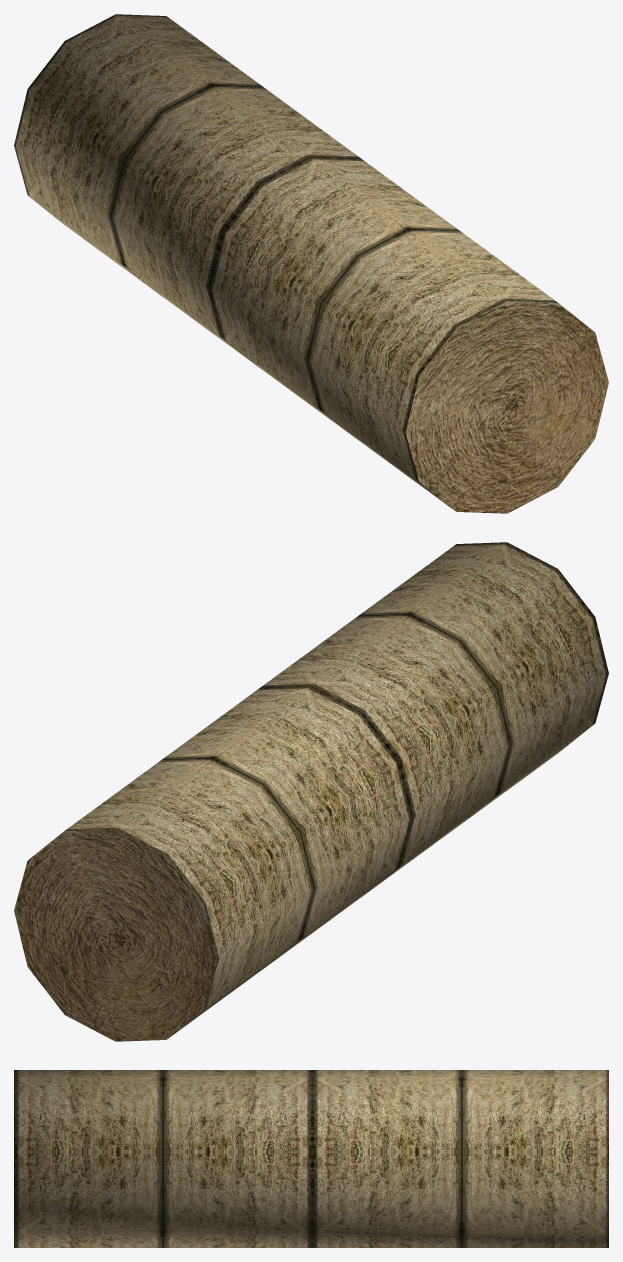
Rendered from hay-bale-straw-1x4-cbj_LOD01.gltf.
The picture shows the model from 3 angles, top to bottom: view 1: azimuth 30°, elevation 25°; view 2: azimuth 150°, elevation 25°; view 3: azimuth 270°, elevation 25°; orthographic projection. The views are drawn at different scales.
Parts seen in each view (by area): view 1: Cube.001; view 2: Cube.001; view 3: Cube.001.
Boxes of the visible parts, x1,y1,x2,y2 form: Cube.001: (14, 14, 608, 513); Cube.001: (14, 542, 608, 1041); Cube.001: (14, 1070, 608, 1247).
Bounding box in the file's own units: 1.8 × 1.8 × 6.
